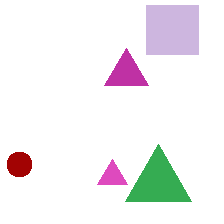circle: (7, 152, 31, 176)
rectangle: (146, 5, 198, 54)
triangle: (125, 144, 191, 201), (104, 48, 148, 85), (97, 159, 127, 184)
